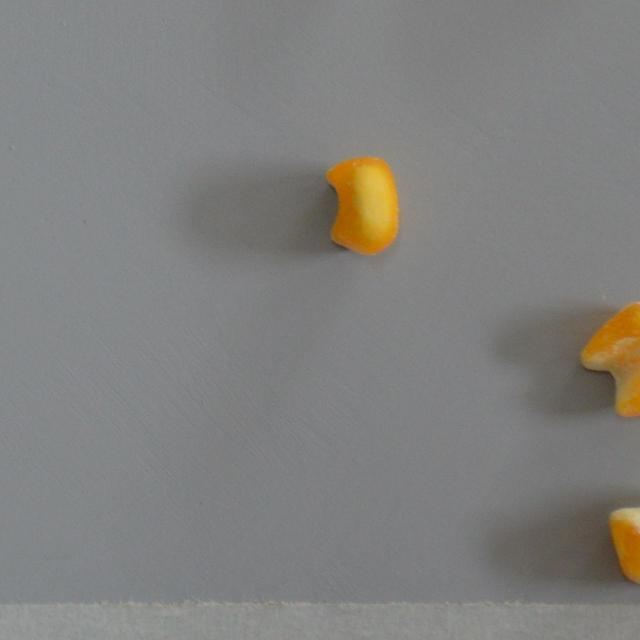no_canjicado: (325, 156, 400, 256)
pelicula: (581, 300, 640, 424), (608, 484, 640, 587)
